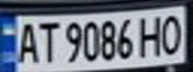0: (81, 17, 100, 63)
6: (115, 15, 139, 61)
8: (100, 17, 121, 62)
9: (60, 18, 84, 64)
A: (12, 18, 42, 64)
H: (136, 11, 166, 57)
O: (157, 10, 187, 56)
T: (33, 18, 60, 64)
